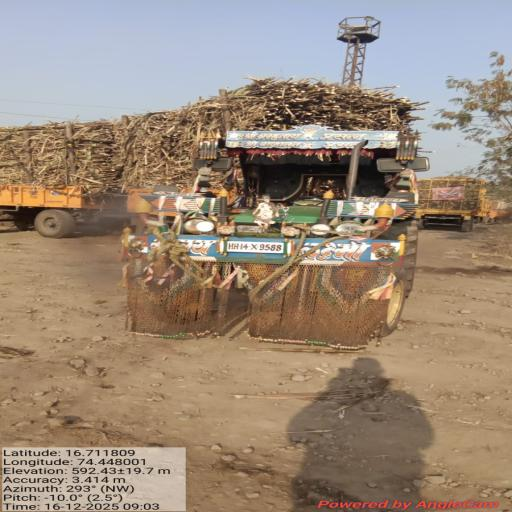number_plate: (227, 242, 283, 254)
